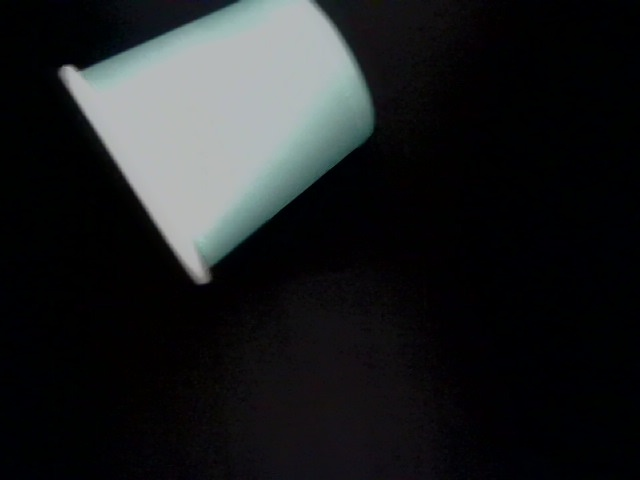CYLJ: (249, 258, 355, 366)
